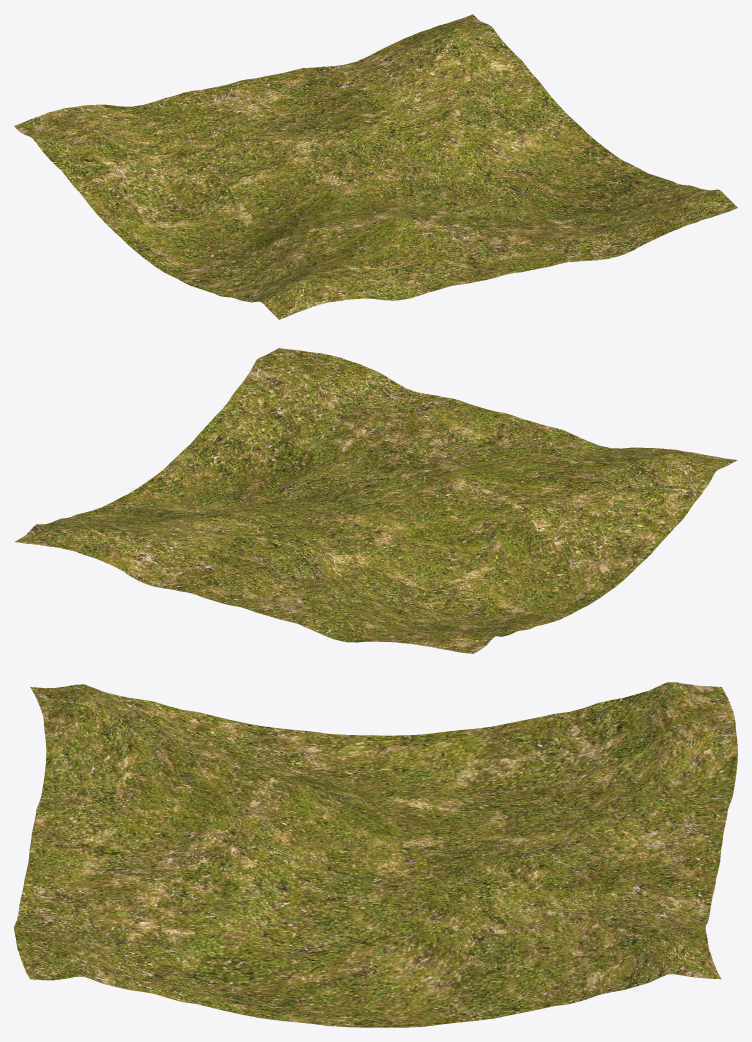
File: ground.glb
3 renders of one model, top to bottom at view 1: azimuth 30°, elevation 25°; view 2: azimuth 150°, elevation 25°; view 3: azimuth 270°, elevation 25°, orthographic. The views are drawn at different scales.
Parts seen in each view (by area): view 1: ground; view 2: ground; view 3: ground.
Boxes of the visible parts, left/top/right/bottom form: ground: left=14, top=14, right=737, bottom=319; ground: left=14, top=348, right=737, bottom=653; ground: left=14, top=682, right=737, bottom=1027.
Size of the model in its own units: 25.22 by 2.77 by 26.17.
1 material, 1 textured.
